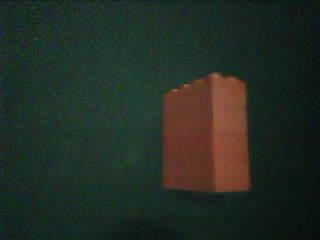lego: (160, 71, 252, 193)
